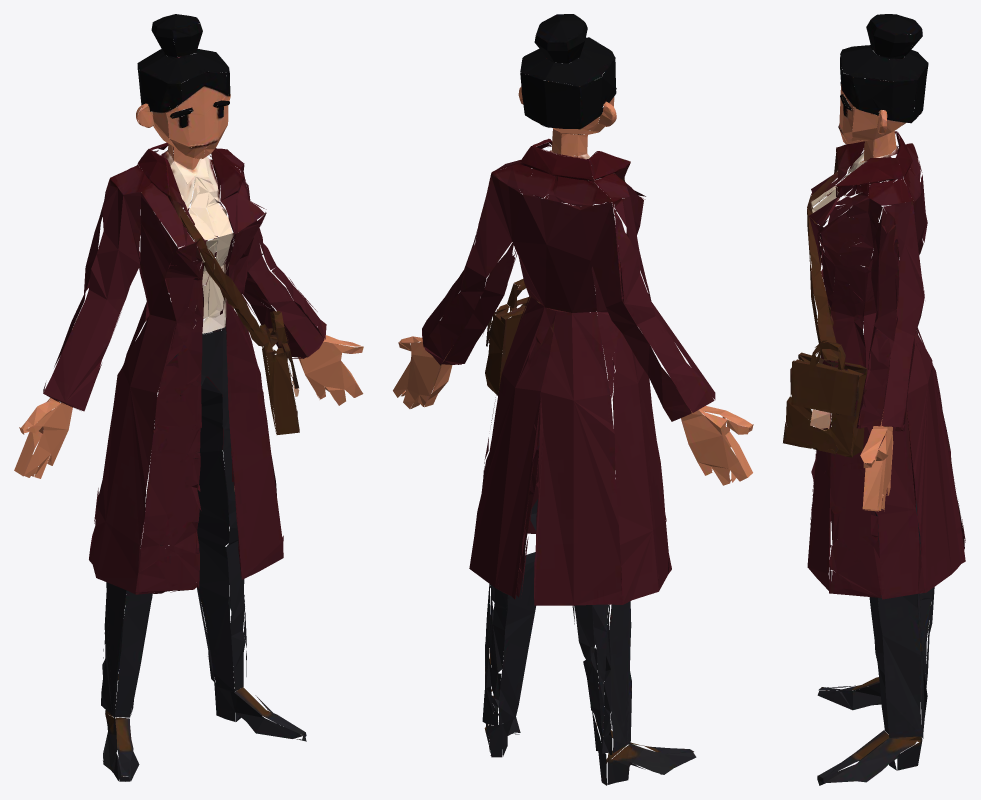
The model's file is habitant.glb.
3 views of the same model, side by side, from view 1: azimuth 30°, elevation 25°; view 2: azimuth 150°, elevation 25°; view 3: azimuth 270°, elevation 25° (orthographic). The views are drawn at different scales.
Parts seen in each view (by area): view 1: world; view 2: world; view 3: world.
Part boxes in pixels (x1,y1,x2,y2): world: (14, 14, 363, 781); world: (393, 14, 753, 785); world: (783, 14, 965, 785).
Size of the model in its own units: 0.5019 by 1 by 0.2319.
1 material, 1 textured.
